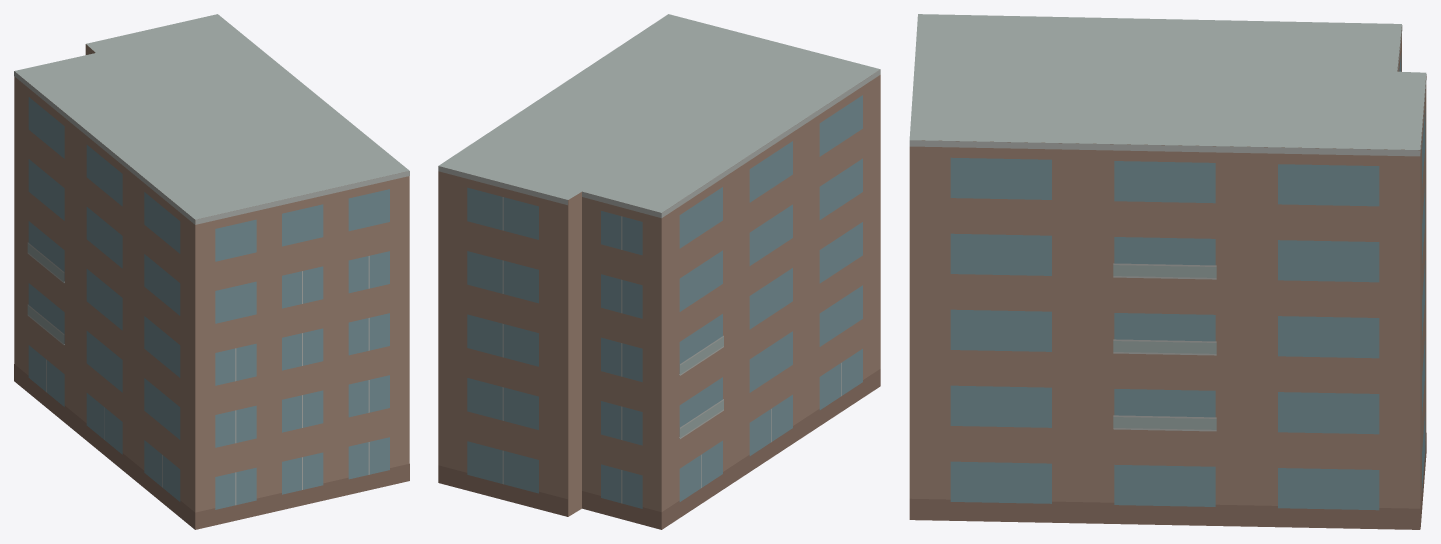
File: survey-upis-33046482.glb
3 renders of one model, left to right at view 1: azimuth 30°, elevation 25°; view 2: azimuth 150°, elevation 25°; view 3: azimuth 270°, elevation 25°, orthographic. The views are drawn at different scales.
Visible parts, largest first — view 1: survey-upis-33046482.tmp; view 2: survey-upis-33046482.tmp; view 3: survey-upis-33046482.tmp.
Boxes of the visible parts, bbox=[...] form: survey-upis-33046482.tmp: bbox=[14, 14, 409, 529]; survey-upis-33046482.tmp: bbox=[438, 14, 880, 529]; survey-upis-33046482.tmp: bbox=[909, 14, 1426, 529].
Size of the model in its own units: 11.19 by 14.55 by 17.96.
